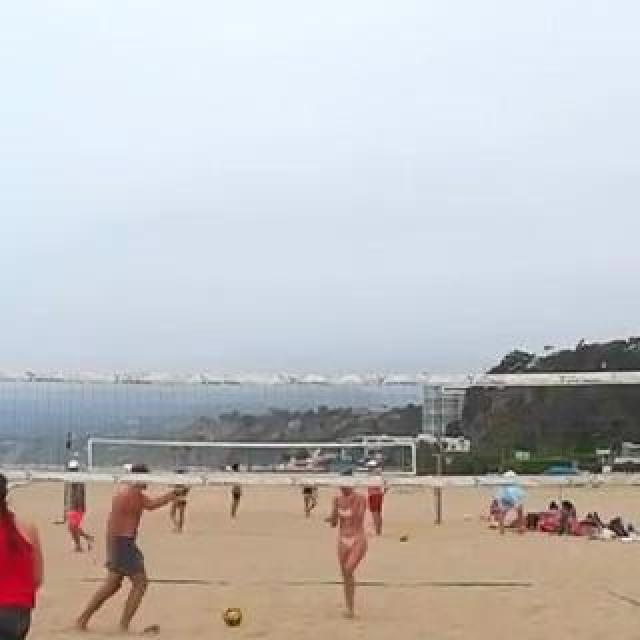volleyball: (224, 608, 244, 628), (399, 533, 409, 543)
